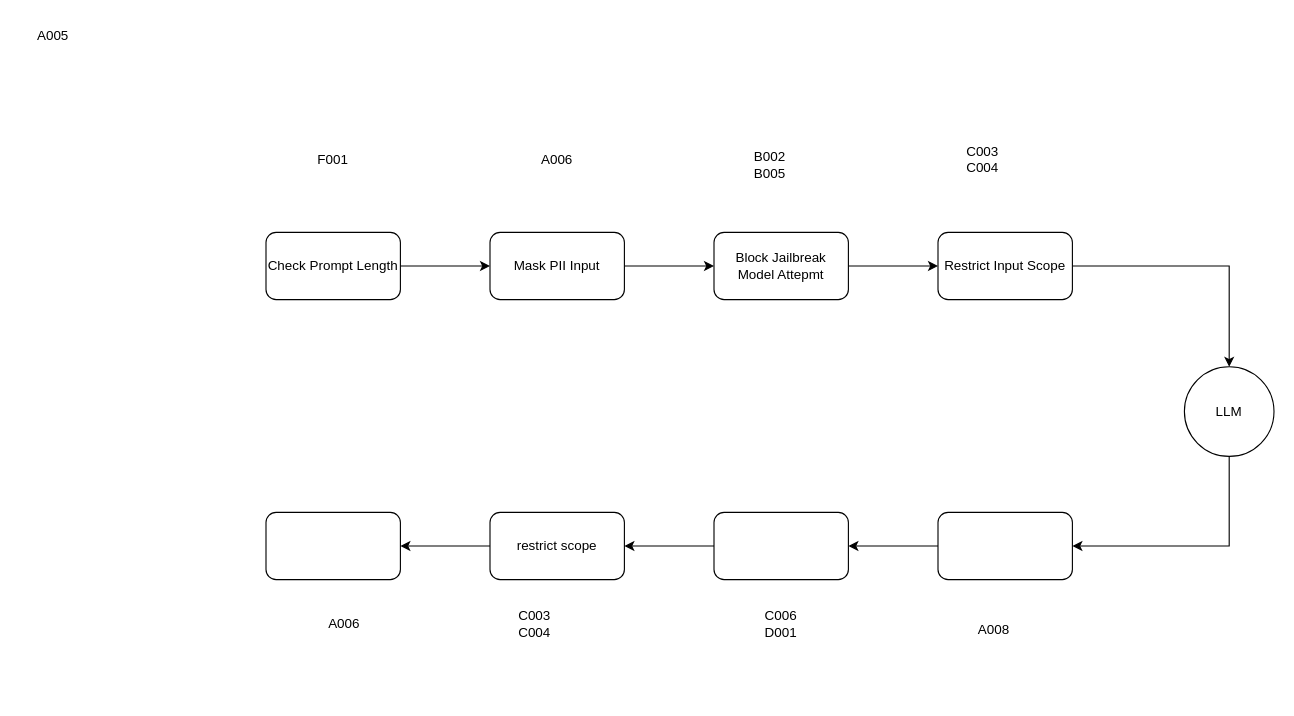
The diagram is 1294 pixels wide and 716 high, and some of its shapes have lost their labels. Each missing label, with the box of its shape:
Check RAG support: (713, 511, 848, 580)
Detect System Prompt Leakage: (937, 511, 1072, 580)
output mask PII: (265, 511, 400, 580)
